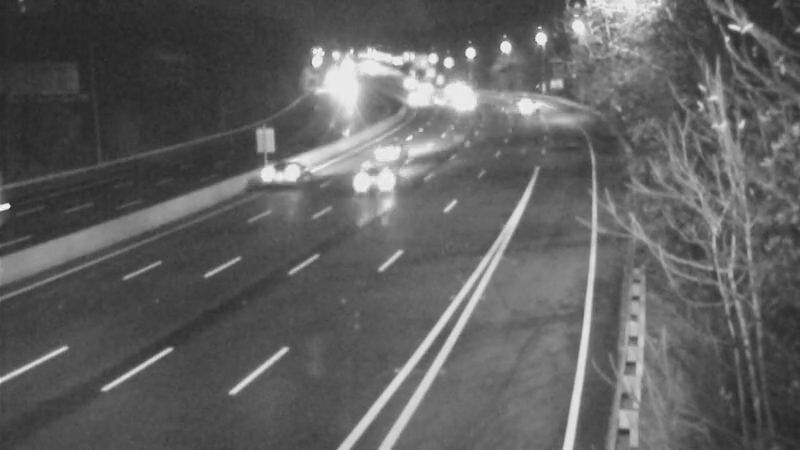vehicle: (352, 111, 432, 191), (337, 145, 417, 225), (243, 136, 323, 216), (1, 168, 65, 248), (432, 63, 482, 113), (395, 78, 445, 128), (412, 74, 462, 124), (436, 80, 486, 130), (509, 78, 559, 128)
